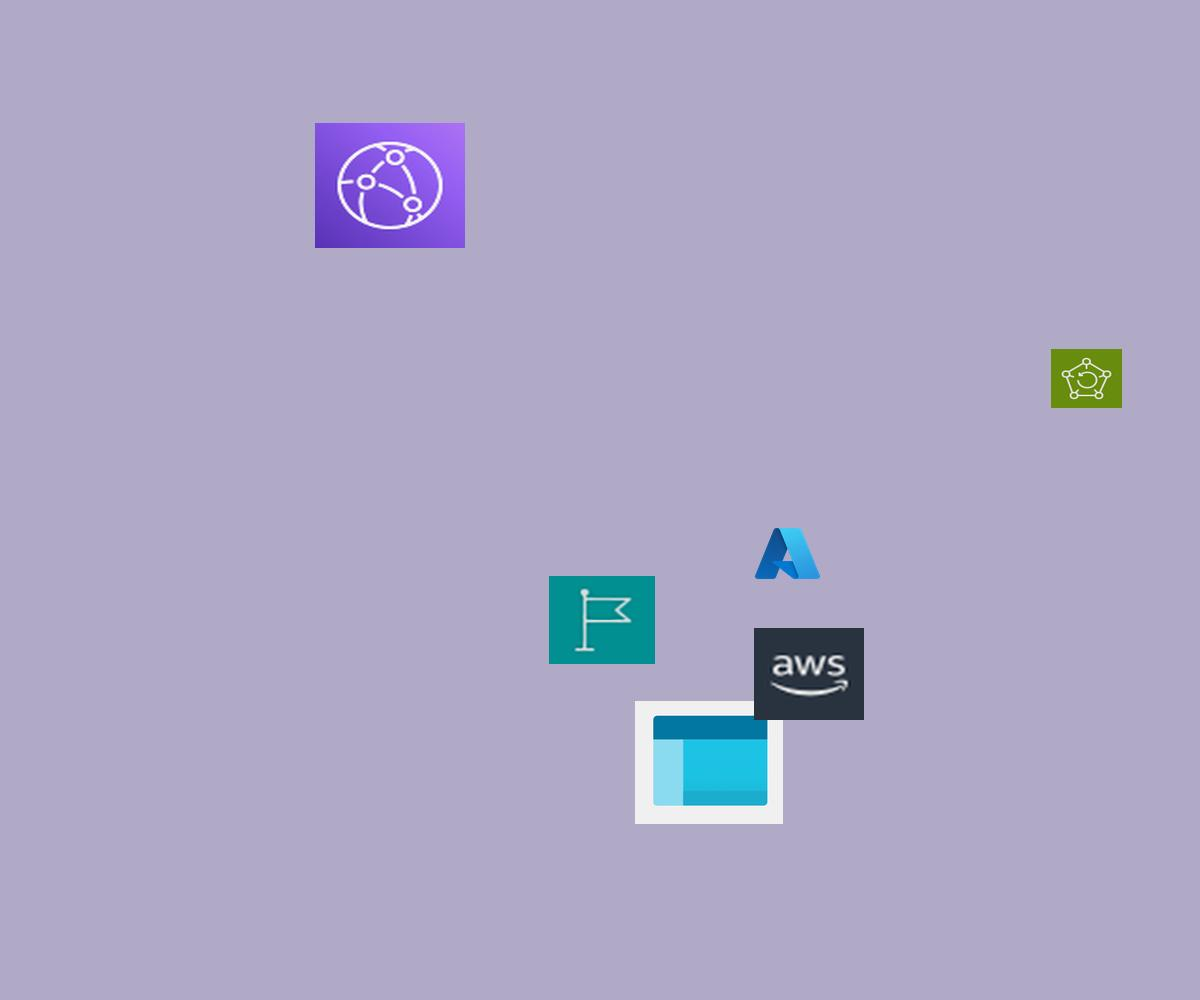AWS-Backup: (1051, 349, 1122, 408)
AWS-Cloud-logo: (754, 628, 864, 720)
AWS-CloudFront: (315, 123, 465, 248)
AWS-Region: (549, 576, 655, 664)
Azure_management-portal: (635, 701, 783, 824)
Azure_services: (752, 524, 823, 583)
